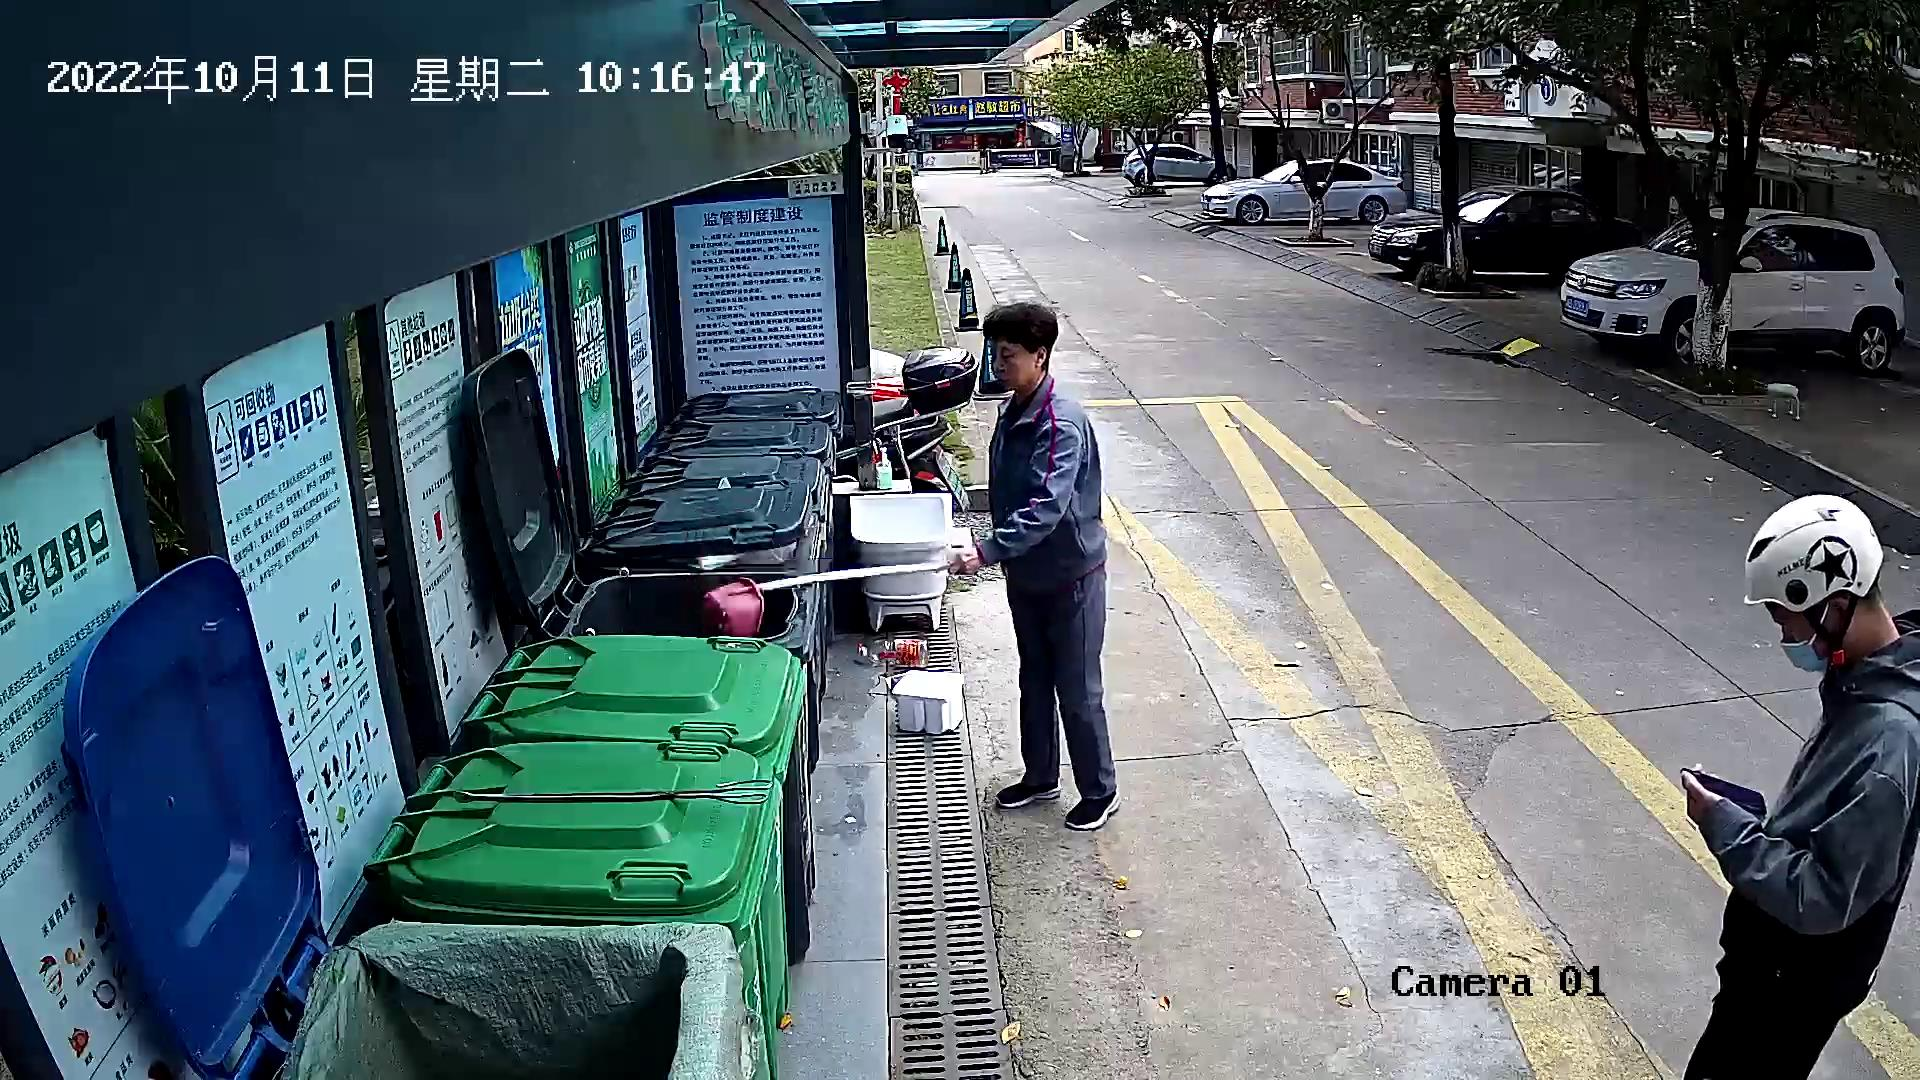paomozhipin: (883, 666, 972, 745)
person: (1669, 482, 1920, 1078), (939, 297, 1129, 836)
suliaozhipin: (853, 626, 933, 673)
